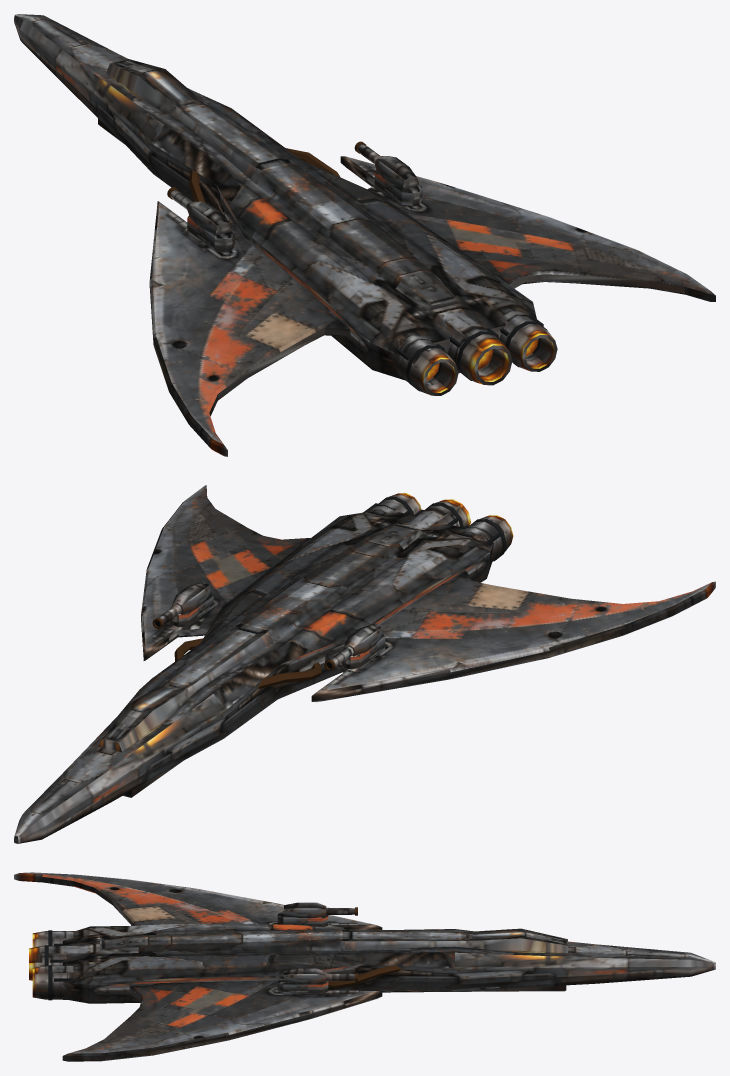
Rendered from pirate-corsair.obj.
3 renders of one model, top to bottom at view 1: azimuth 30°, elevation 25°; view 2: azimuth 150°, elevation 25°; view 3: azimuth 270°, elevation 25°, orthographic. The views are drawn at different scales.
Visible parts, largest first — view 1: needle.pressure.hull, port.hooked.wing, starboard.hooked.wing, dorsal.spine, engine.1.nozzle, engine.0.nozzle, engine.2.nozzle, starboard.cannon.receiver, port.cannon.receiver, starboard.gun.shoe, port.gun.shoe; view 2: needle.pressure.hull, port.hooked.wing, dorsal.spine, starboard.hooked.wing, engine.0.nozzle, port.cannon.receiver, starboard.cannon.receiver, engine.1.nozzle, wing.root.pipe.-1, engine.2.nozzle; view 3: needle.pressure.hull, starboard.hooked.wing, dorsal.spine, port.hooked.wing, engine.2.nozzle, engine.1.nozzle, starboard.gun.shoe, port.cannon.receiver, starboard.cannon.receiver, wing.root.pipe.1, ventral.service.keel, port.gun.shoe (+1 smaller).
Boxes of the visible parts, <box> form: needle.pressure.hull: <box>14,14,536,380</box>; port.hooked.wing: <box>149,201,350,456</box>; starboard.hooked.wing: <box>340,156,715,301</box>; dorsal.spine: <box>106,59,459,310</box>; engine.1.nozzle: <box>448,323,512,385</box>; engine.0.nozzle: <box>394,337,458,395</box>; engine.2.nozzle: <box>499,313,557,371</box>; starboard.cannon.receiver: <box>375,156,419,189</box>; port.cannon.receiver: <box>187,201,231,234</box>; starboard.gun.shoe: <box>374,170,422,206</box>; port.gun.shoe: <box>187,215,234,252</box>; needle.pressure.hull: <box>14,511,494,843</box>; port.hooked.wing: <box>311,570,715,702</box>; dorsal.spine: <box>98,523,422,752</box>; starboard.hooked.wing: <box>141,485,310,660</box>; engine.0.nozzle: <box>464,515,513,561</box>; port.cannon.receiver: <box>343,623,383,656</box>; starboard.cannon.receiver: <box>171,582,211,614</box>; engine.1.nozzle: <box>420,499,470,526</box>; wing.root.pipe.-1: <box>257,662,321,688</box>; engine.2.nozzle: <box>373,493,421,514</box>; needle.pressure.hull: <box>62,924,715,1003</box>; starboard.hooked.wing: <box>62,980,382,1061</box>; dorsal.spine: <box>100,928,567,953</box>; port.hooked.wing: <box>14,872,382,929</box>; engine.2.nozzle: <box>32,965,69,999</box>; engine.1.nozzle: <box>29,945,66,980</box>; starboard.gun.shoe: <box>277,977,328,994</box>; port.cannon.receiver: <box>284,902,326,917</box>; starboard.cannon.receiver: <box>284,968,326,983</box>; wing.root.pipe.1: <box>328,966,402,988</box>; ventral.service.keel: <box>382,985,566,992</box>; port.gun.shoe: <box>277,911,328,927</box>.
Size of the model in its own units: 12.35 by 1.67 by 19.83.
5 materials, 2 textured.
